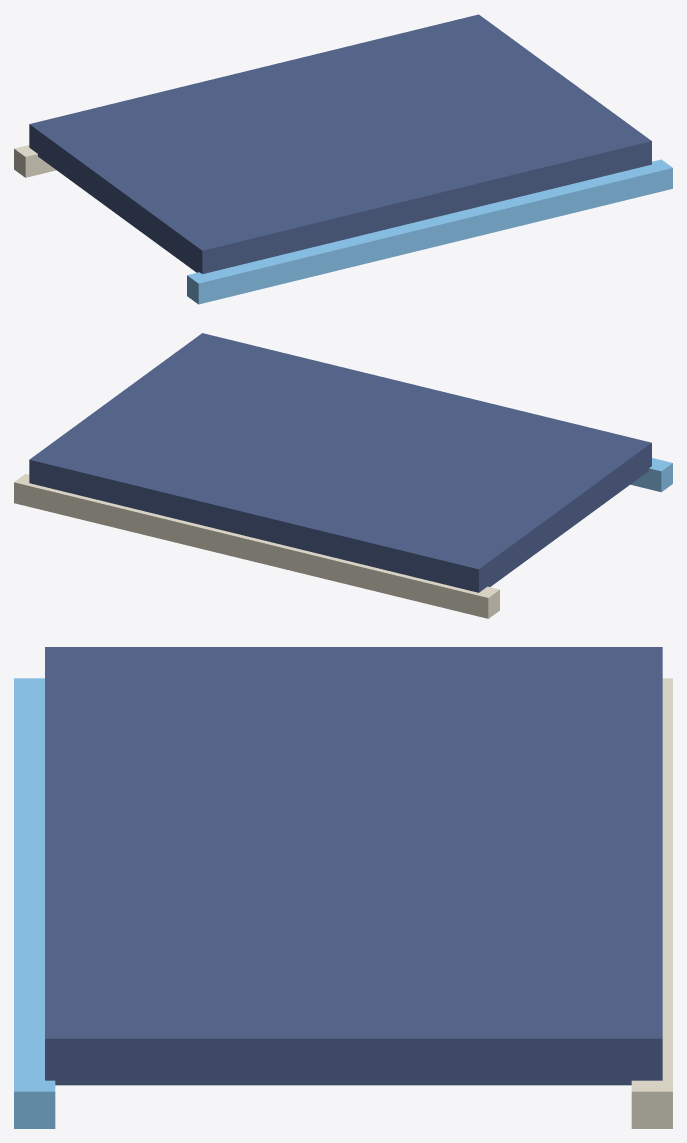
The model's file is 01_world_facade.glb.
3 views of the same model, one above another, from view 1: azimuth 30°, elevation 25°; view 2: azimuth 150°, elevation 25°; view 3: azimuth 270°, elevation 25° (orthographic). The views are drawn at different scales.
Parts seen in each view (by area): view 1: wall_panel_upgrade, trim_top, trim_bottom; view 2: wall_panel_upgrade, trim_bottom, trim_top; view 3: wall_panel_upgrade, trim_top, trim_bottom.
Boxes of the visible parts, x1,y1,x2,y2 form: wall_panel_upgrade: [29, 14, 651, 273]; trim_top: [187, 159, 672, 304]; trim_bottom: [14, 145, 56, 177]; wall_panel_upgrade: [29, 333, 651, 592]; trim_bottom: [14, 474, 499, 618]; trim_top: [630, 458, 672, 492]; wall_panel_upgrade: [45, 647, 662, 1085]; trim_top: [14, 678, 55, 1128]; trim_bottom: [631, 678, 672, 1128].
Size of the model in its own units: 1.9 by 0.17 by 1.28.
